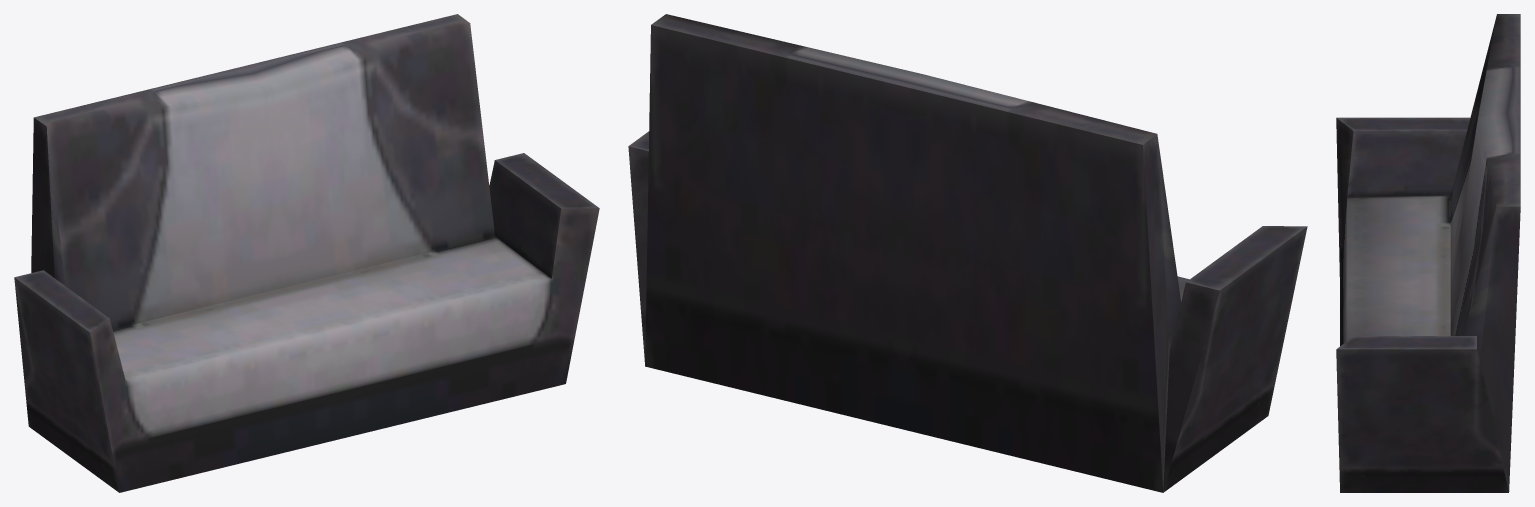
Rendered from frn_all_couch_sm_s1_l2.fbx.
The picture shows the model from 3 angles, left to right: view 1: azimuth 30°, elevation 25°; view 2: azimuth 150°, elevation 25°; view 3: azimuth 270°, elevation 25°; orthographic projection. The views are drawn at different scales.
Parts seen in each view (by area): view 1: mesh_node; view 2: mesh_node; view 3: mesh_node.
Boxes of the visible parts, left/top/right/bottom form: mesh_node: left=14, top=14, right=599, bottom=492; mesh_node: left=628, top=14, right=1307, bottom=492; mesh_node: left=1336, top=14, right=1520, bottom=492.
Bounding box in the file's own units: 1.99 × 1.12 × 0.6684.
